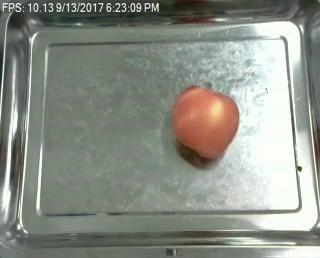apple: (170, 85, 239, 159)
